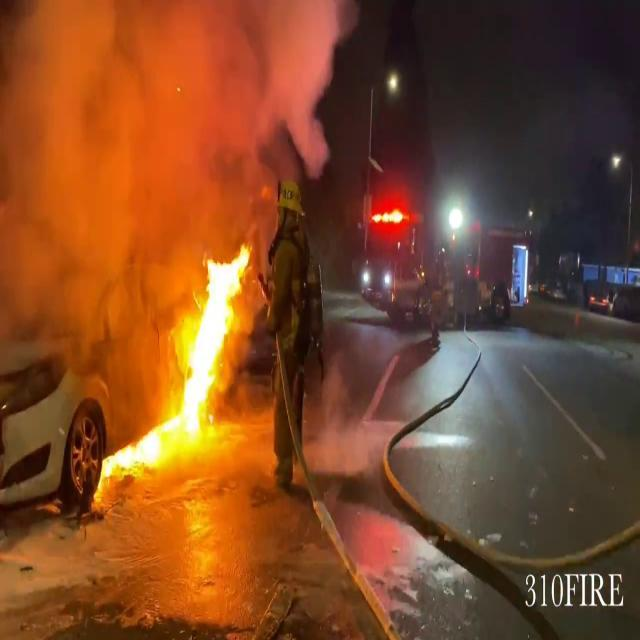Fire: (104, 238, 258, 481)
Smoke: (0, 1, 346, 316)
